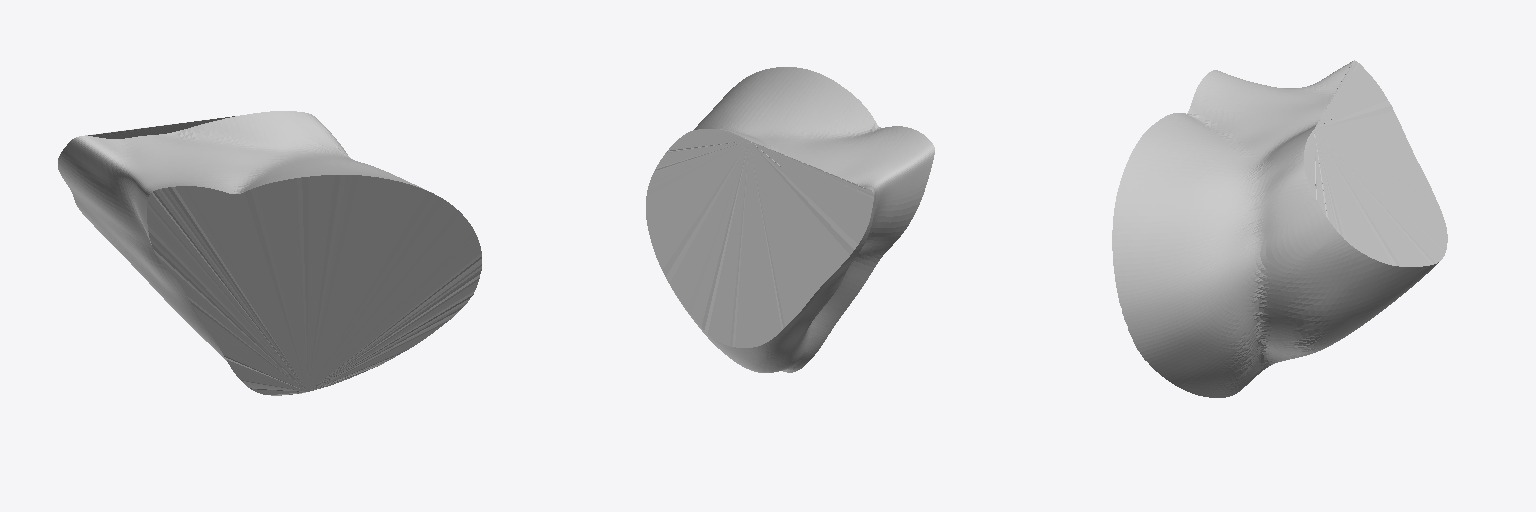
Rendered from liver3.obj.
3 views of the same model, side by side, from view 1: azimuth 30°, elevation 25°; view 2: azimuth 150°, elevation 25°; view 3: azimuth 270°, elevation 25° (orthographic).
Parts seen in each view (by area): view 1: liver.003; view 2: liver.003; view 3: liver.003.
Part boxes in pixels (bbox=[...]): liver.003: bbox=[58, 111, 481, 395]; liver.003: bbox=[646, 67, 934, 372]; liver.003: bbox=[1112, 60, 1447, 397].
Bounding box in the file's own units: 0.072 × 0.0595 × 0.0705.